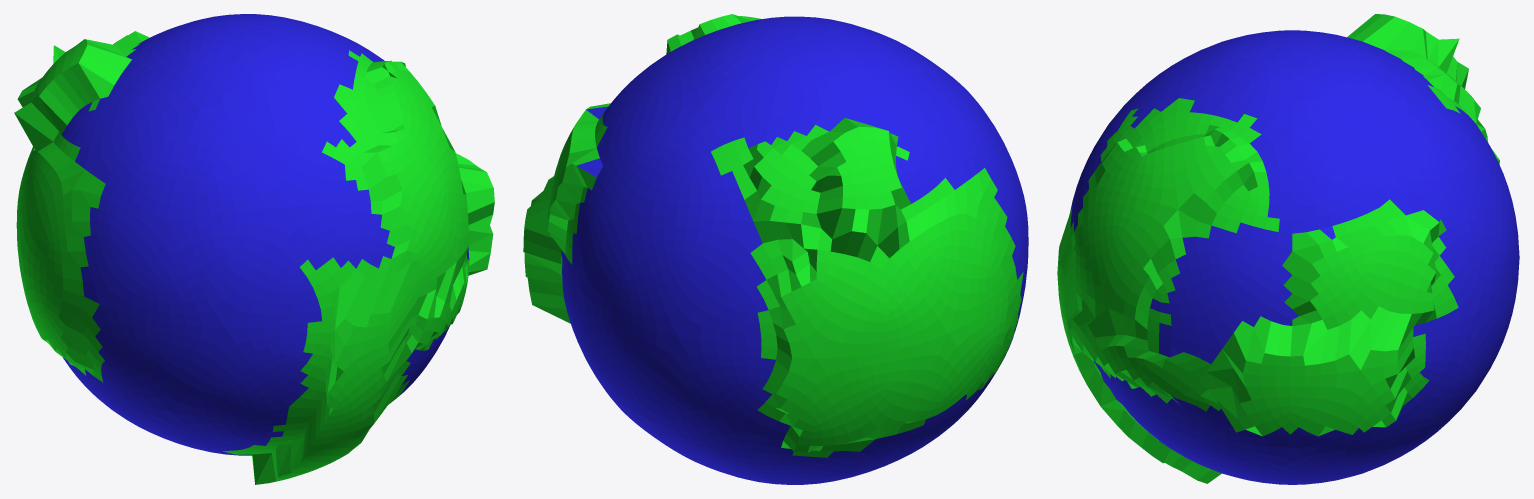
File: planet.fbx
3 renders of one model, left to right at view 1: azimuth 30°, elevation 25°; view 2: azimuth 150°, elevation 25°; view 3: azimuth 270°, elevation 25°, orthographic. The views are drawn at different scales.
Parts seen in each view (by area): view 1: Icosphere; view 2: Icosphere; view 3: Icosphere.
Part boxes in pixels (x1,y1,x2,y2): Icosphere: (14, 14, 494, 484); Icosphere: (523, 14, 1028, 484); Icosphere: (1057, 14, 1519, 484).
Bounding box in the file's own units: 204 × 192 × 188.
